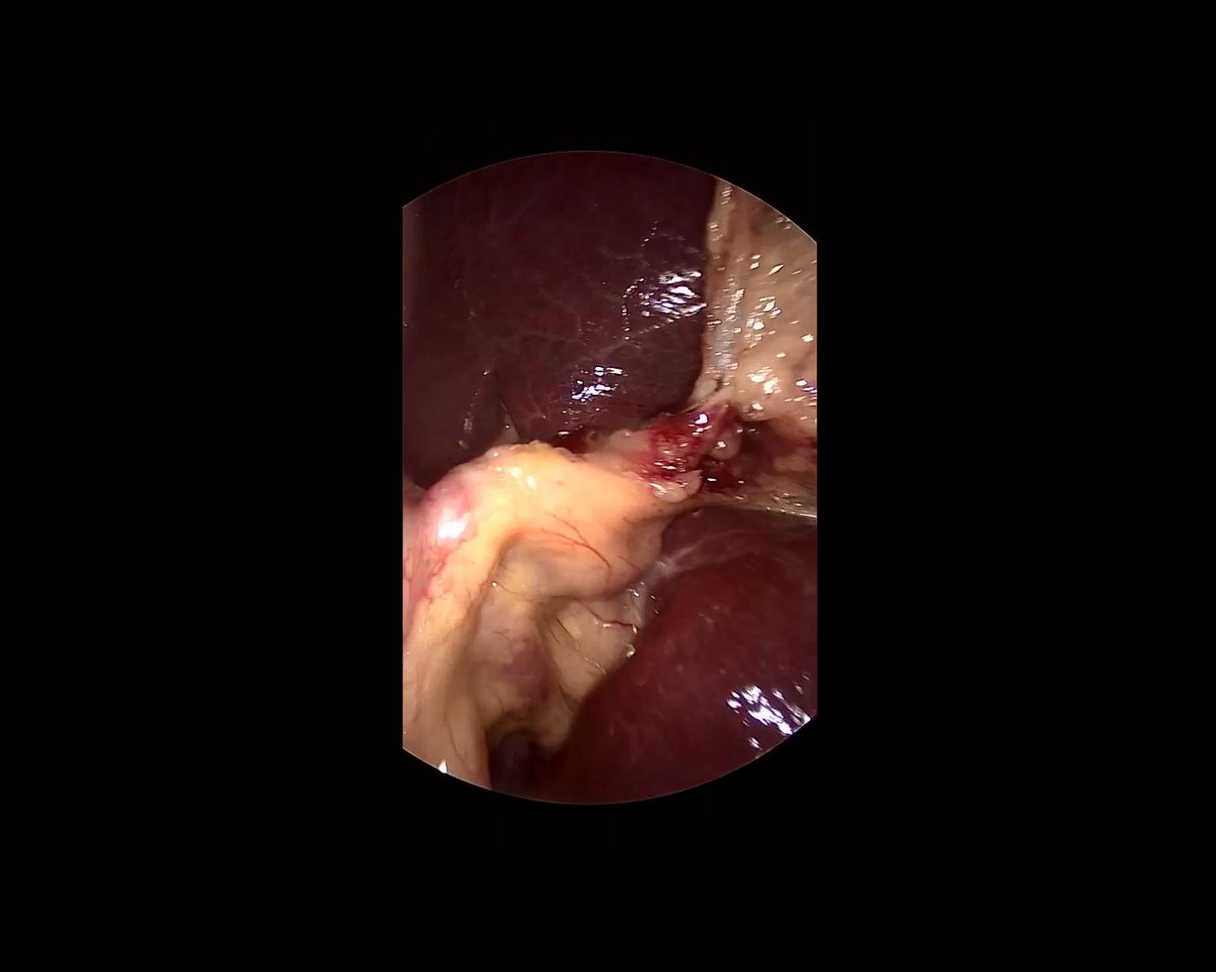Gallbladder: (703, 183, 815, 528)
Liver: (438, 455, 903, 897), (401, 153, 711, 490)
